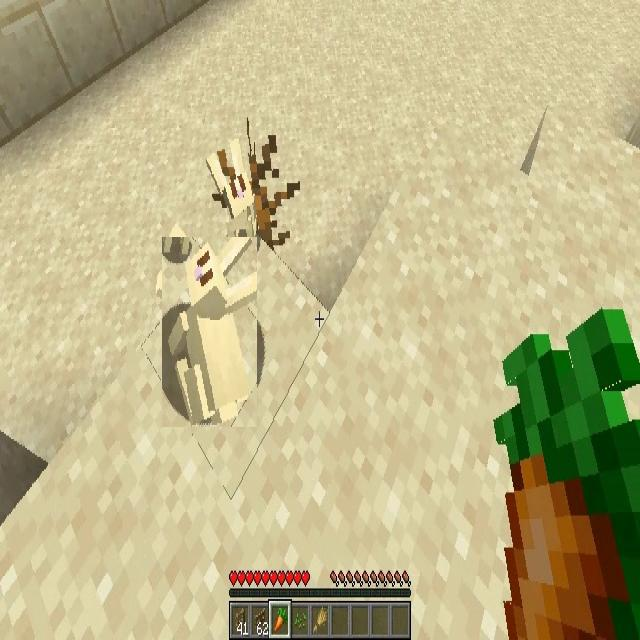rabbit: (162, 237, 257, 427)
